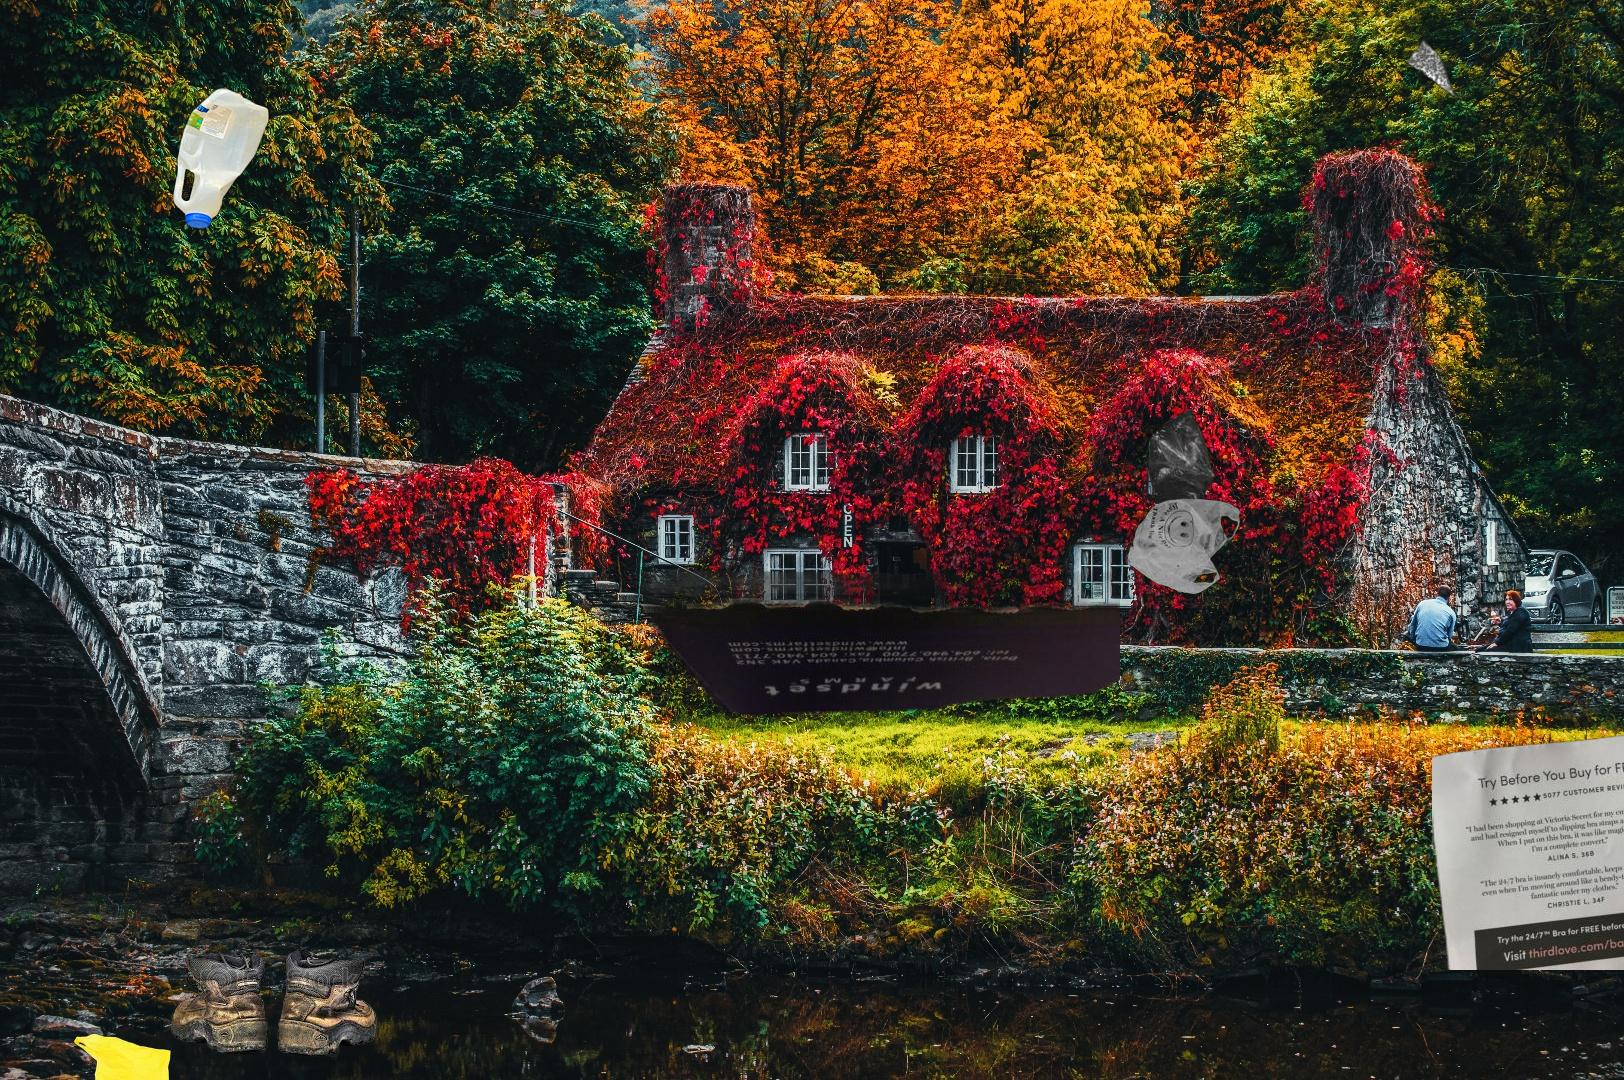paper: (1432, 702, 1624, 970), (1404, 28, 1473, 101)
plastic-bag: (1124, 403, 1245, 595), (61, 1031, 212, 1080)
plastic-bottles: (169, 82, 273, 235)
shoes: (167, 946, 379, 1060)
trashbox-cardboard: (626, 427, 1120, 729)
